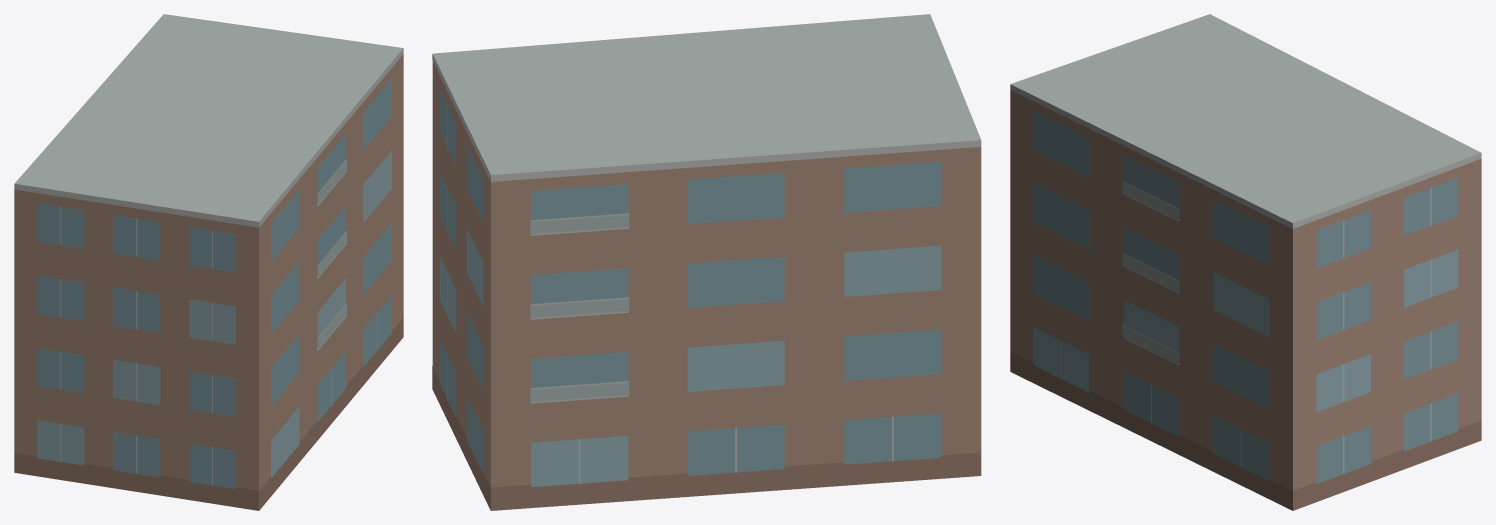
Rendered from survey-upis-32633164.glb.
3 views of the same model, side by side, from view 1: azimuth 30°, elevation 25°; view 2: azimuth 150°, elevation 25°; view 3: azimuth 270°, elevation 25° (orthographic). The views are drawn at different scales.
Visible parts, largest first — view 1: survey-upis-32633164.tmp; view 2: survey-upis-32633164.tmp; view 3: survey-upis-32633164.tmp.
Boxes of the visible parts, left/top/right/bottom form: survey-upis-32633164.tmp: left=14, top=14, right=403, bottom=510; survey-upis-32633164.tmp: left=432, top=14, right=981, bottom=510; survey-upis-32633164.tmp: left=1010, top=14, right=1481, bottom=510.
Bounding box in the file's own units: 19.05 × 12.2 × 18.13.
